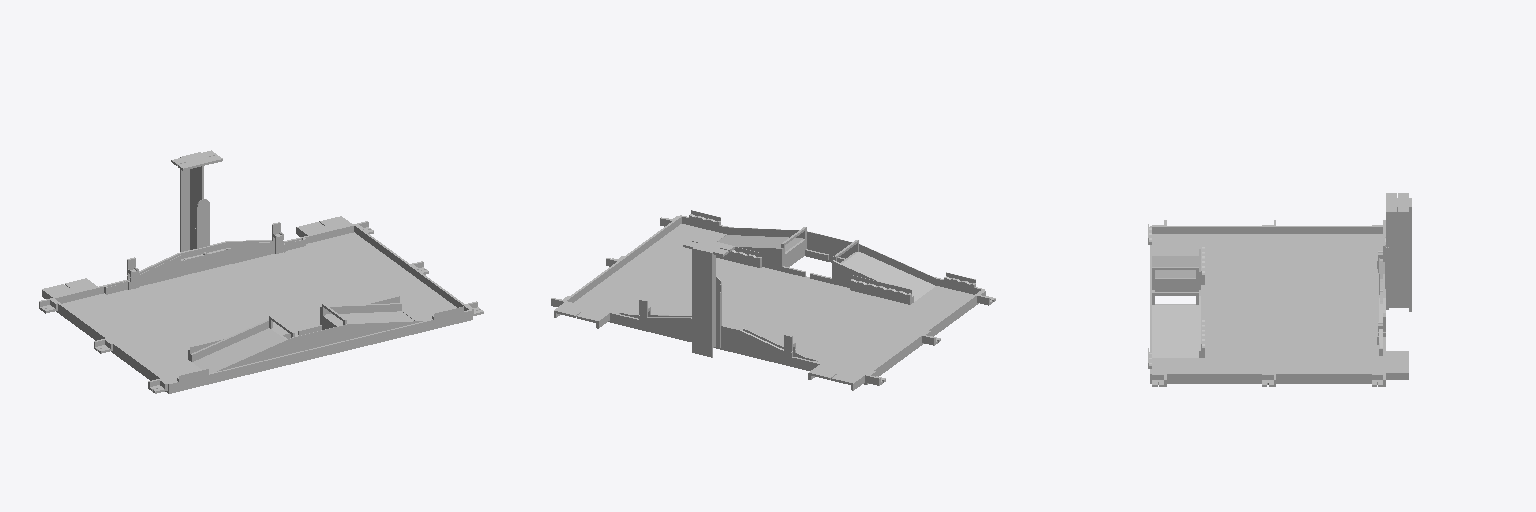
The model's file is ebot_mesh_table_my_floorv3.obj.
3 renders of one model, left to right at view 1: azimuth 30°, elevation 25°; view 2: azimuth 150°, elevation 25°; view 3: azimuth 270°, elevation 25°, orthographic.
Bounding box in the file's own units: 3288 × 1022 × 2279.